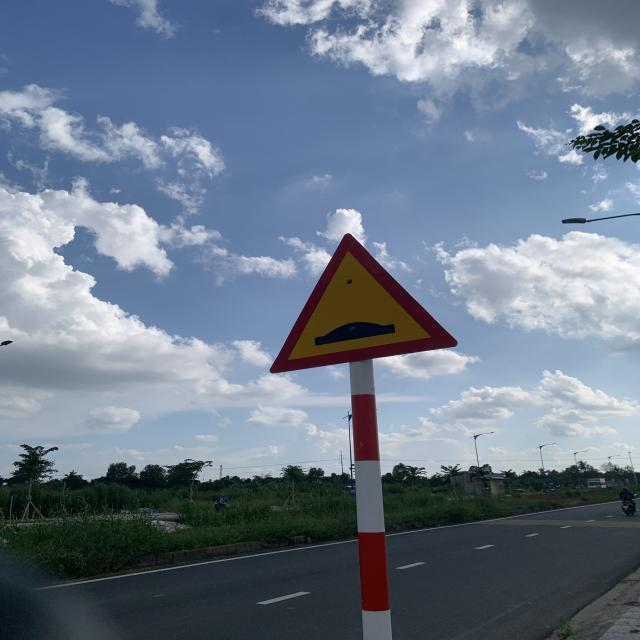Duong_Cong_Ben_Phai: (266, 231, 460, 374)
